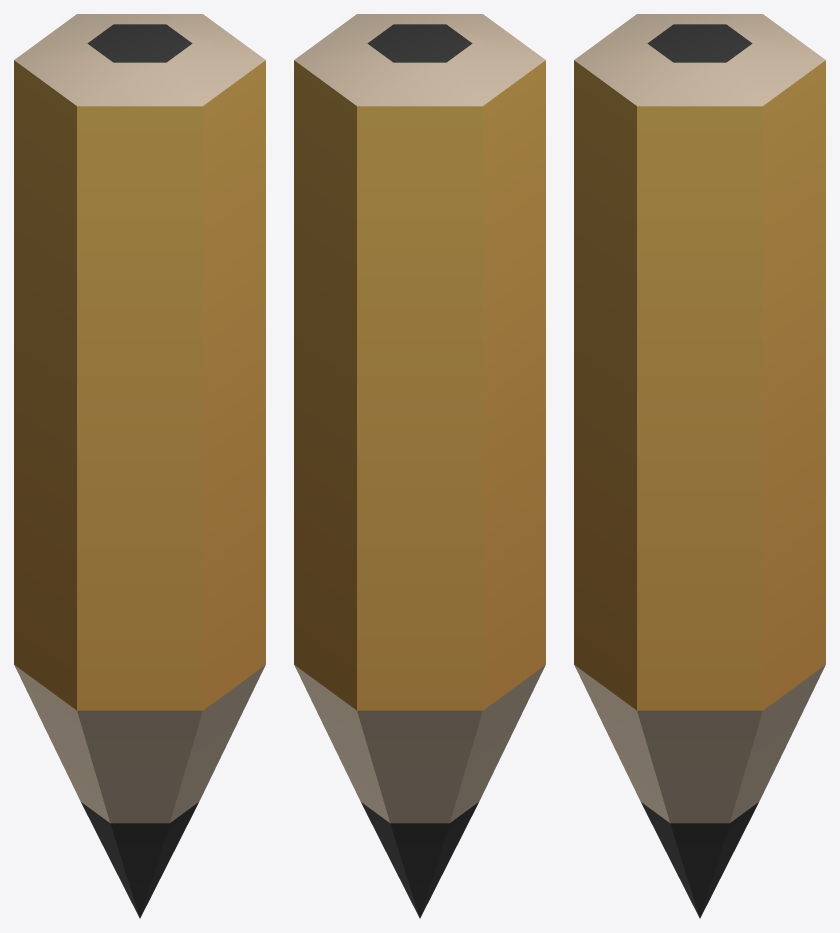
File: pencil_a_short.glb
The picture shows the model from 3 angles, left to right: view 1: azimuth 30°, elevation 25°; view 2: azimuth 150°, elevation 25°; view 3: azimuth 270°, elevation 25°; orthographic projection.
Parts seen in each view (by area): view 1: pencil_A_short; view 2: pencil_A_short; view 3: pencil_A_short.
Part boxes in pixels (x1,y1,x2,y2): pencil_A_short: (14,14,265,918); pencil_A_short: (294,14,545,918); pencil_A_short: (574,14,825,918).
Size of the model in its own units: 0.0517 by 0.2287 by 0.0596.
1 material, 1 textured.
